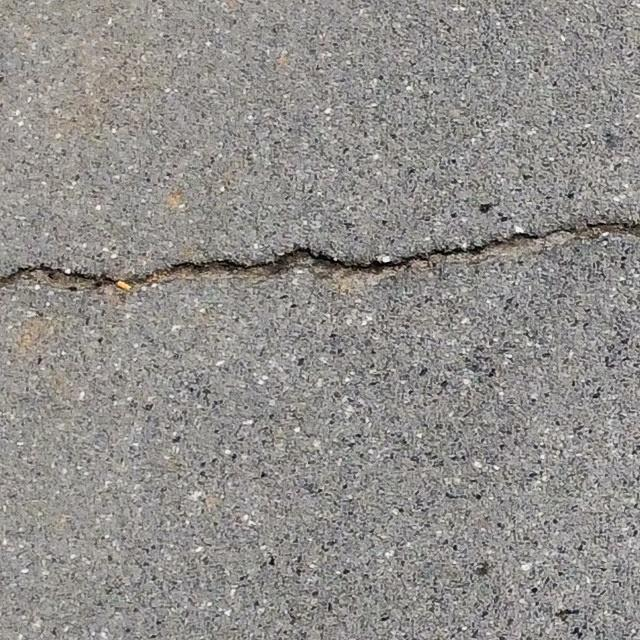TransverseCrack: (1, 221, 640, 291)
